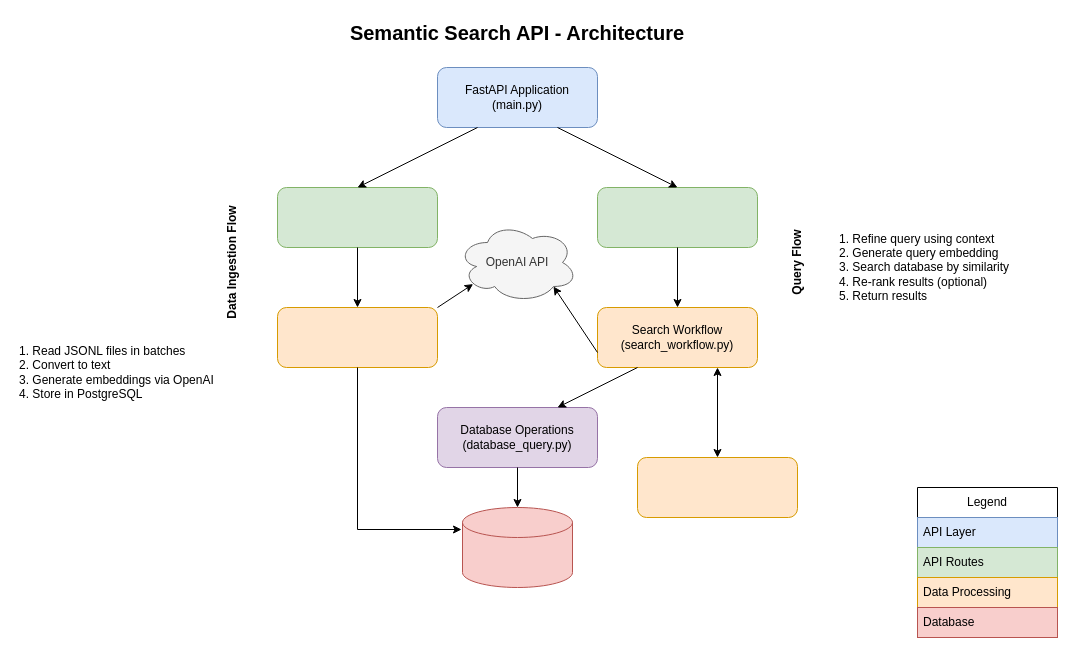
The diagram is 1075 pixels wide and 655 high, and some of its shapes have lost their labels. Here are the shapes that lost their labels. From the top down, the centre of each, then its label:
At (x=357, y=217): "Data Load Route (data_load.py)".
At (x=677, y=217): "Query Route (query.py)".
At (x=357, y=337): "Data Ingestion (data_ingestion.py)".
At (x=717, y=487): "Re-ranking (rerank_results.py)".
At (x=517, y=547): "PostgreSQL + pgvector (Vector Database)".
